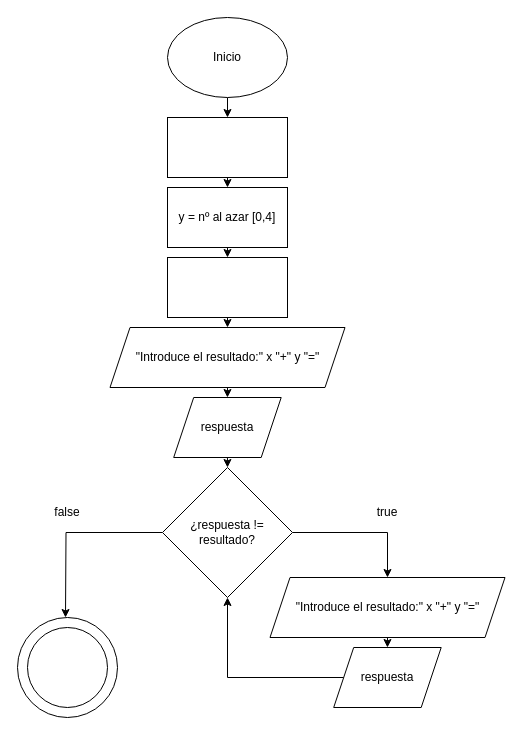
Some shapes in this 523 by 735 pixel diagram are drawn without their labels. Here are the shapes that lost their labels. From the top down, the centre of each, then its label:
At point 227,147: "x = nº al azar [0,4]".
At point 227,287: "resultado = x + y".
At point 67,667: "Fin".
